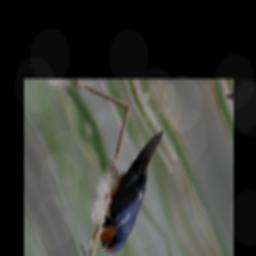Swallow: (70, 129, 198, 256)
